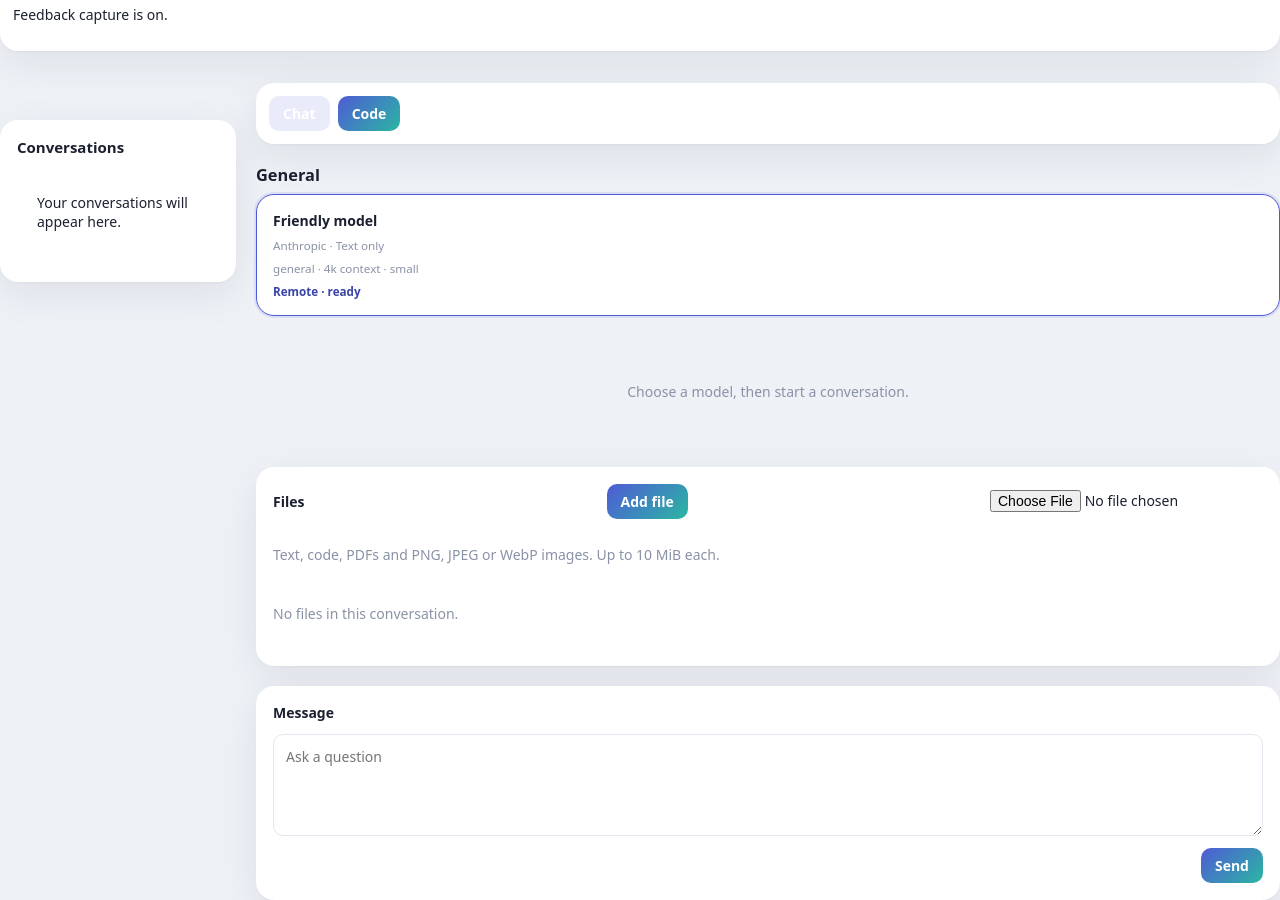
Scenario: leaving an owned stream requests navigation Stop before switching conversations
(page scrolled)
Expected: the text "Friendly model" is shown, [273,211,377,230]
Type "Navigate away" into the text box labelled "Message".
click(768, 785); type("Navigate away")  # box [273,734,1263,836]
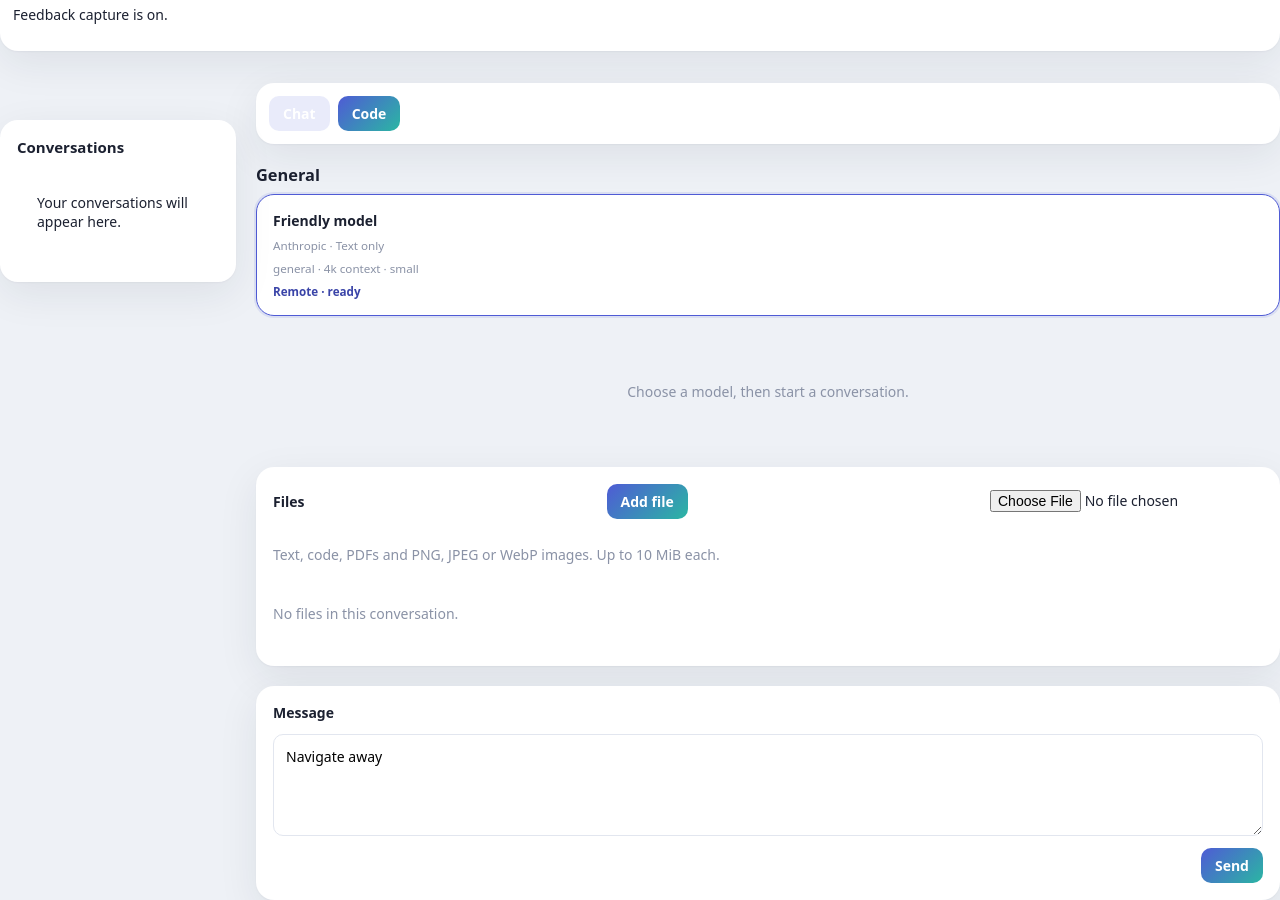
Click the button "Send".
click(1232, 865)  # box [1201,848,1263,883]
(page scrolled)
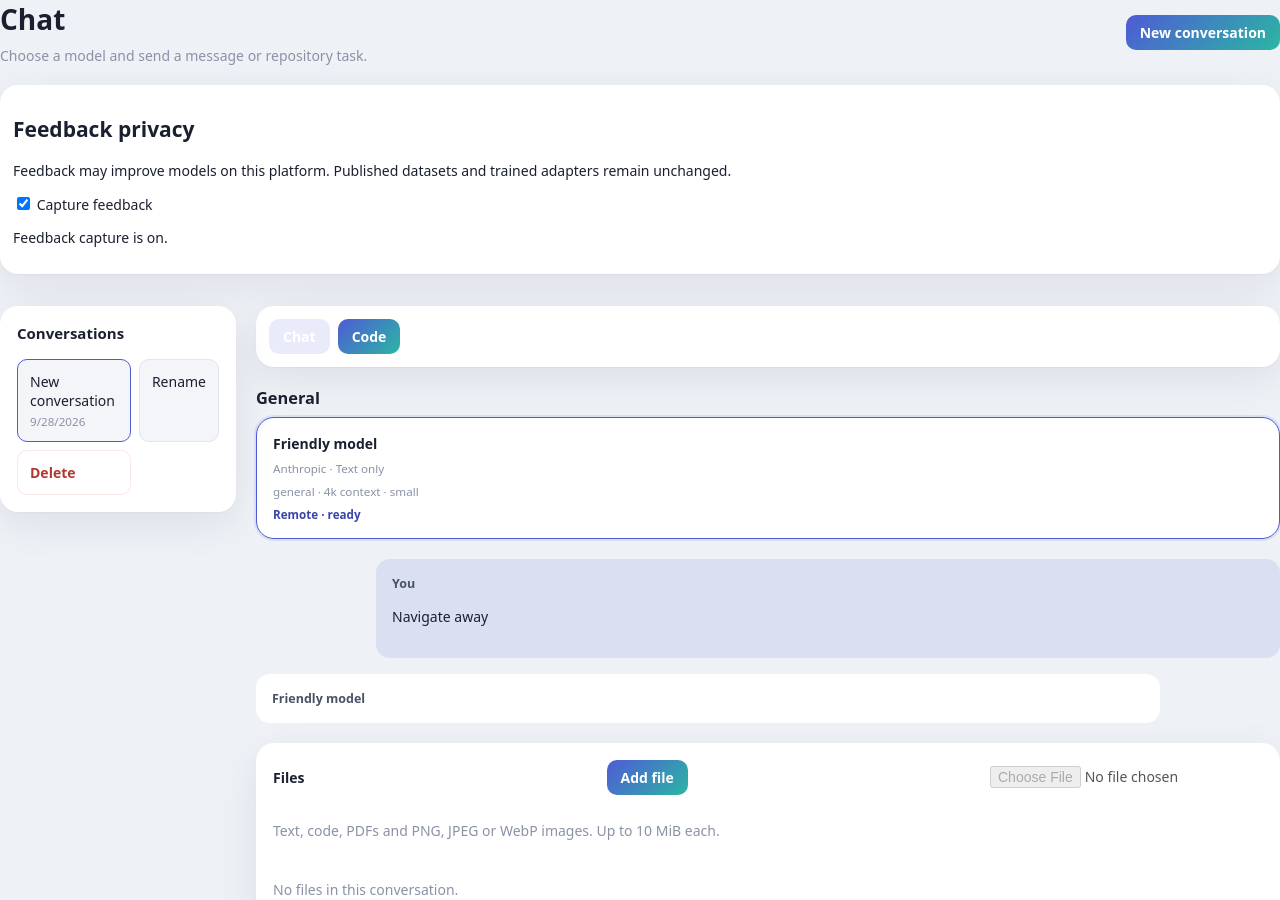
Click the button "New conversation".
click(1203, 32)  # box [1126,15,1279,50]
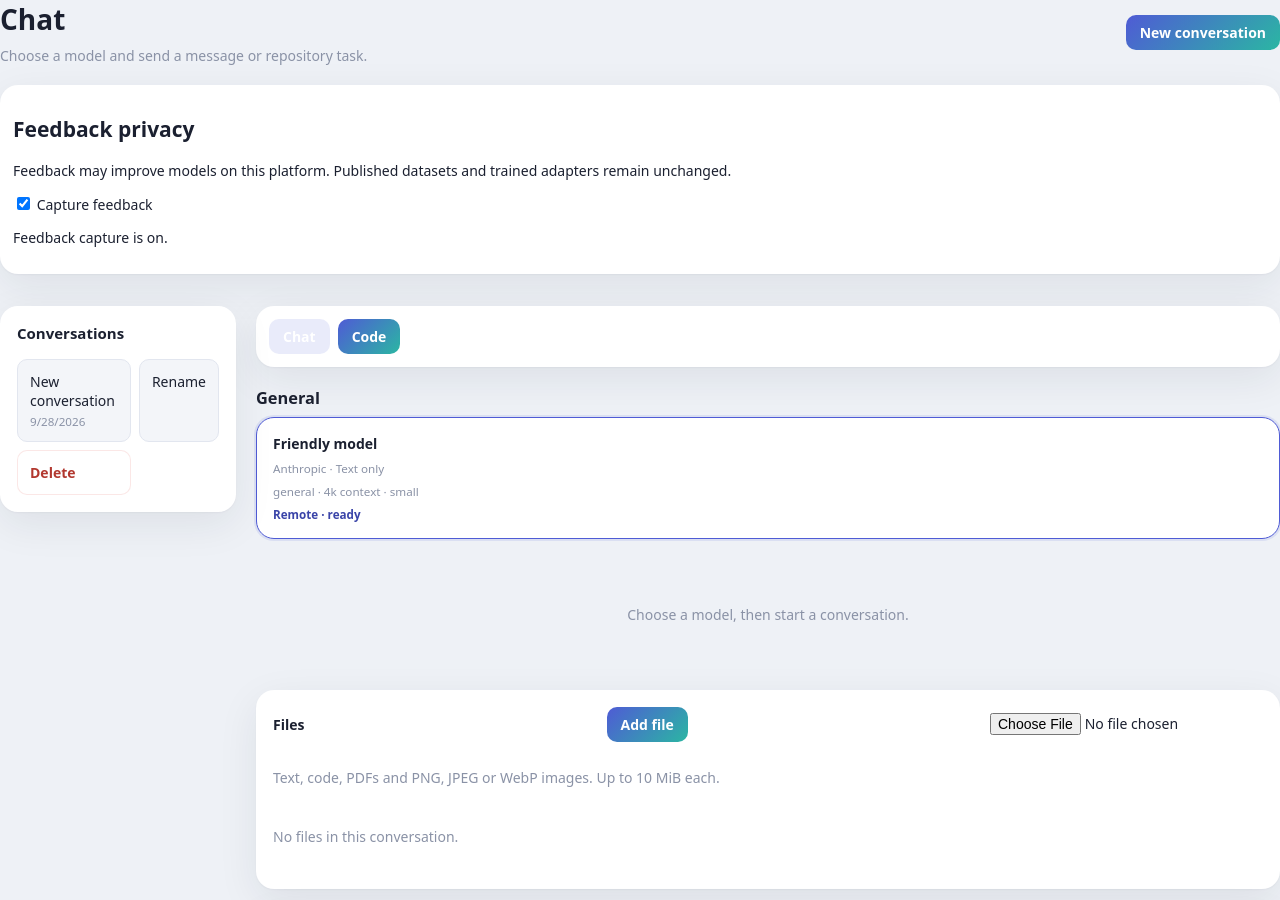
Now the text "Navigate away" is gone
